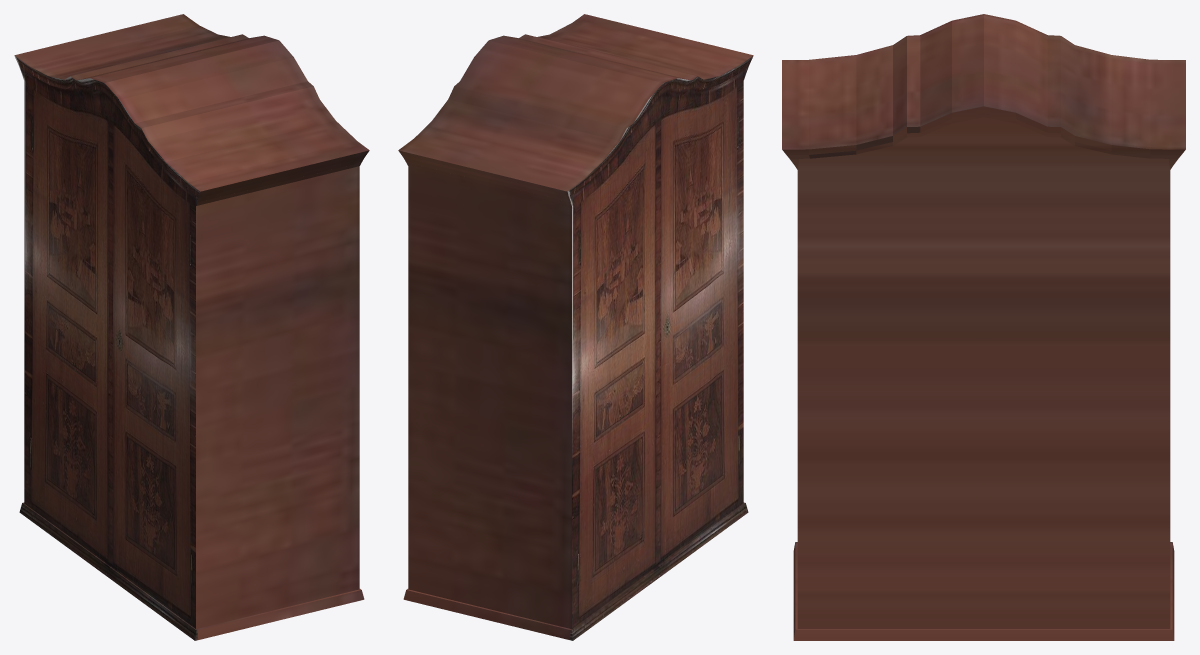
File: wardrobe.glb
3 views of the same model, side by side, from view 1: azimuth 30°, elevation 25°; view 2: azimuth 150°, elevation 25°; view 3: azimuth 270°, elevation 25° (orthographic). The views are drawn at different scales.
Visible parts, largest first — view 1: Cube, Door2, Door1; view 2: Cube, Door2, Door1; view 3: Cube.
Part boxes in pixels (x1,y1,x2,y2): Cube: (14, 14, 369, 640); Door2: (113, 125, 190, 617); Door1: (33, 90, 107, 556); Cube: (398, 14, 753, 640); Door2: (661, 87, 738, 555); Door1: (581, 125, 654, 614); Cube: (782, 14, 1185, 640).
Size of the model in its own units: 1.68 by 4.54 by 3.1.
Materials: 1 (1 with a texture image).
